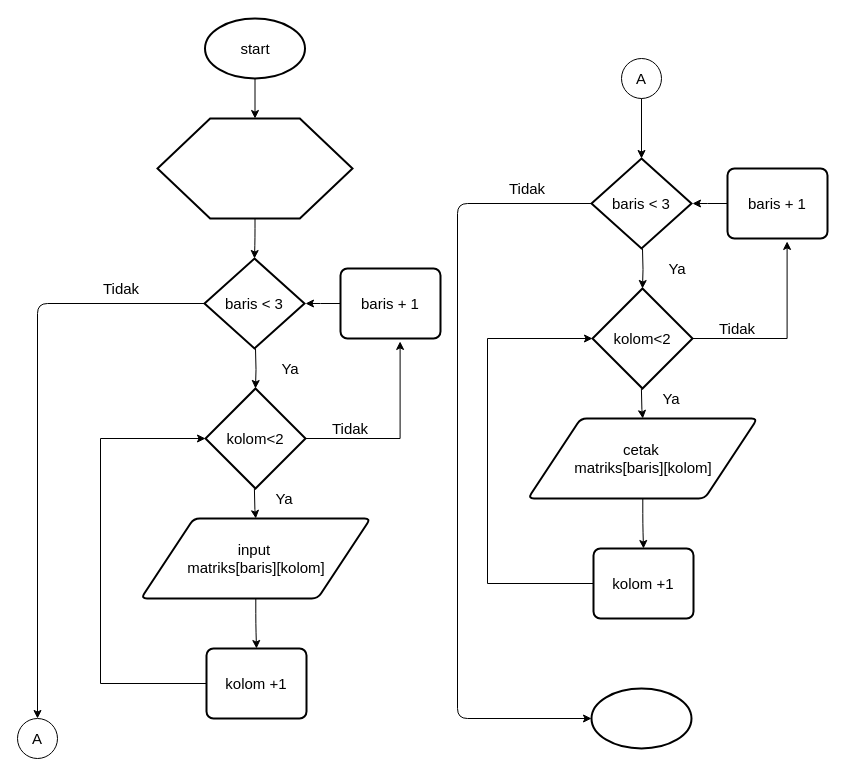
The diagram is 846 pixels wide and 776 high, and some of its shapes have lost their labels. The shapes that lost their labels are listed below. From the top down, each one's box as (x1, y1, x2, y2) in pixels, then its label:
(156, 117, 353, 219): baris, kolom: integer matriks[3][4] : integer
(590, 687, 692, 749): end
